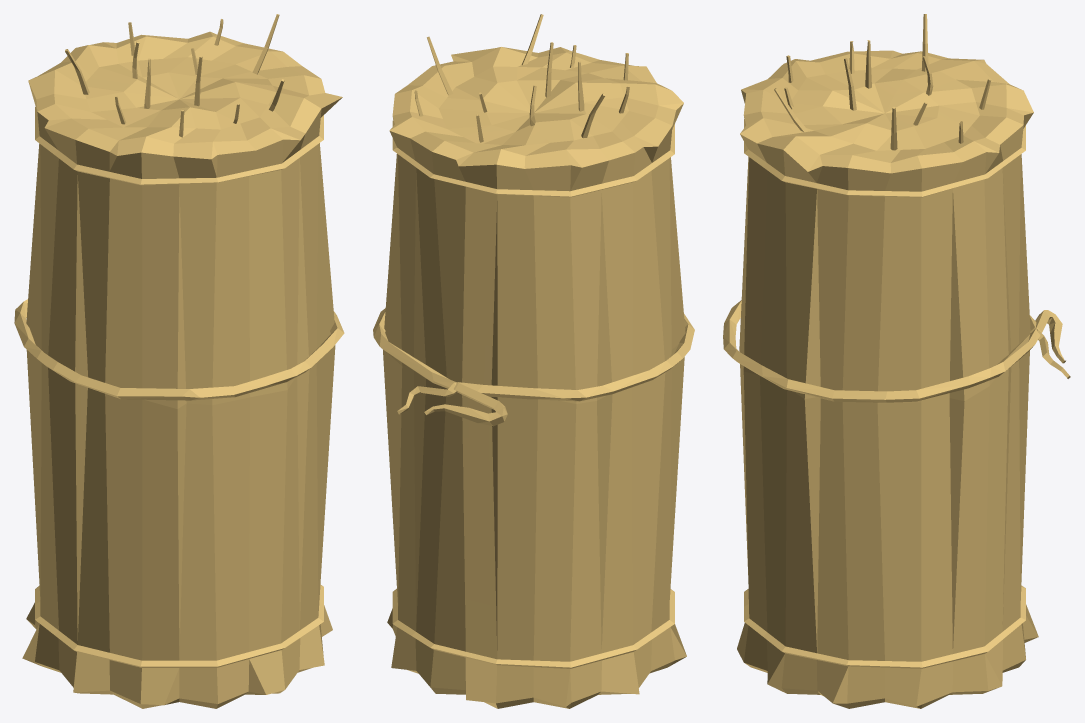
File: straw_pile_01.fbx
3 views of the same model, side by side, from view 1: azimuth 30°, elevation 25°; view 2: azimuth 150°, elevation 25°; view 3: azimuth 270°, elevation 25° (orthographic). The views are drawn at different scales.
Visible parts, largest first — view 1: straw_pile; view 2: straw_pile; view 3: straw_pile.
Boxes of the visible parts, <box> form: straw_pile: <box>14,14,344,708</box>; straw_pile: <box>373,14,694,708</box>; straw_pile: <box>723,14,1070,708</box>.
Bounding box in the file's own units: 86.03 × 178 × 94.14.
